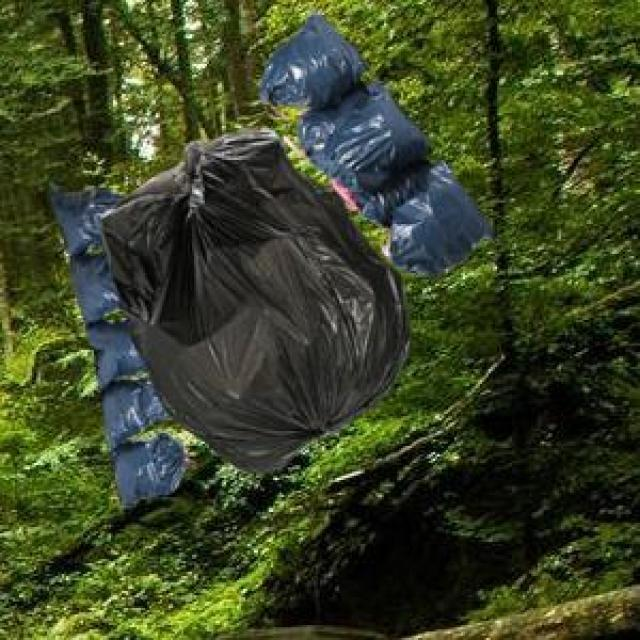waste: (114, 132, 404, 462), (298, 89, 422, 186), (386, 179, 488, 273), (264, 22, 362, 104), (68, 252, 144, 322), (51, 188, 136, 246), (114, 444, 192, 504), (90, 329, 162, 375), (103, 386, 165, 433)
